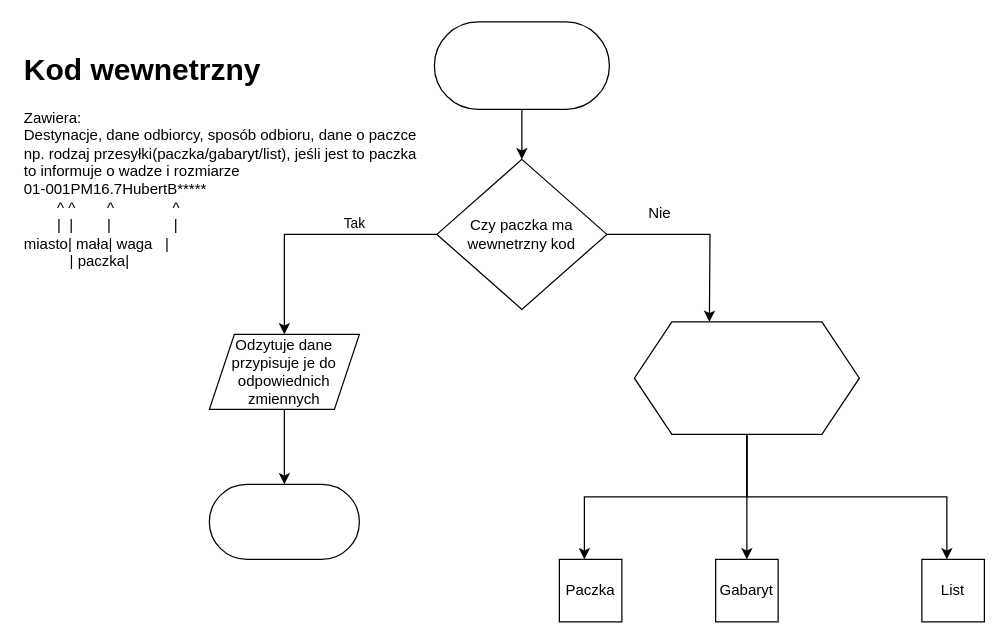
Some shapes in this 1006 by 644 pixel diagram are drawn without their labels. The shapes that lost their labels are listed below. From the top down, each one's centre as x and y in pixels, then its label:
At point (521, 65): "Przyjscie przesyłki na sortownie/punkt przyjęć".
At point (746, 377): "Przypisuje dane odbiorcy, klasyfikuje przesyłke".
At point (283, 521): "Wysłanie paczki dalej".
